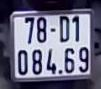0: (16, 47, 29, 78)
1: (71, 14, 82, 45)
4: (44, 47, 58, 76)
6: (63, 46, 75, 74)
7: (24, 15, 35, 46)
8: (30, 45, 43, 76), (35, 16, 49, 44)
9: (76, 43, 89, 75)
D: (58, 15, 71, 45)
